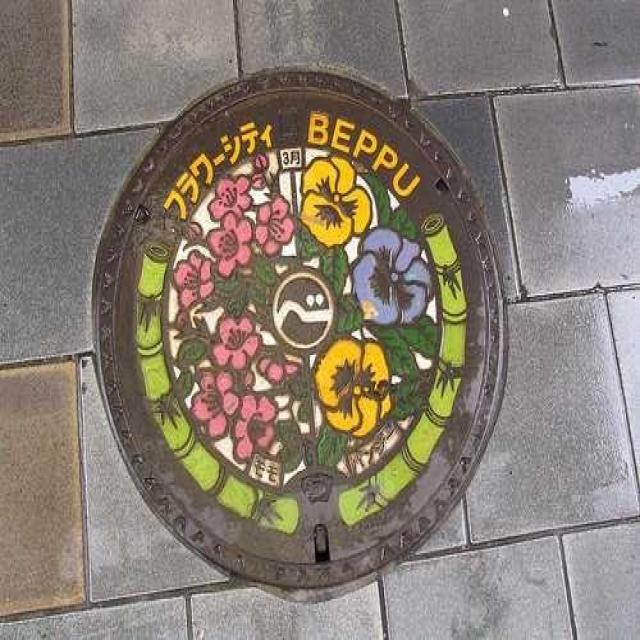manhole: (94, 72, 505, 598)
